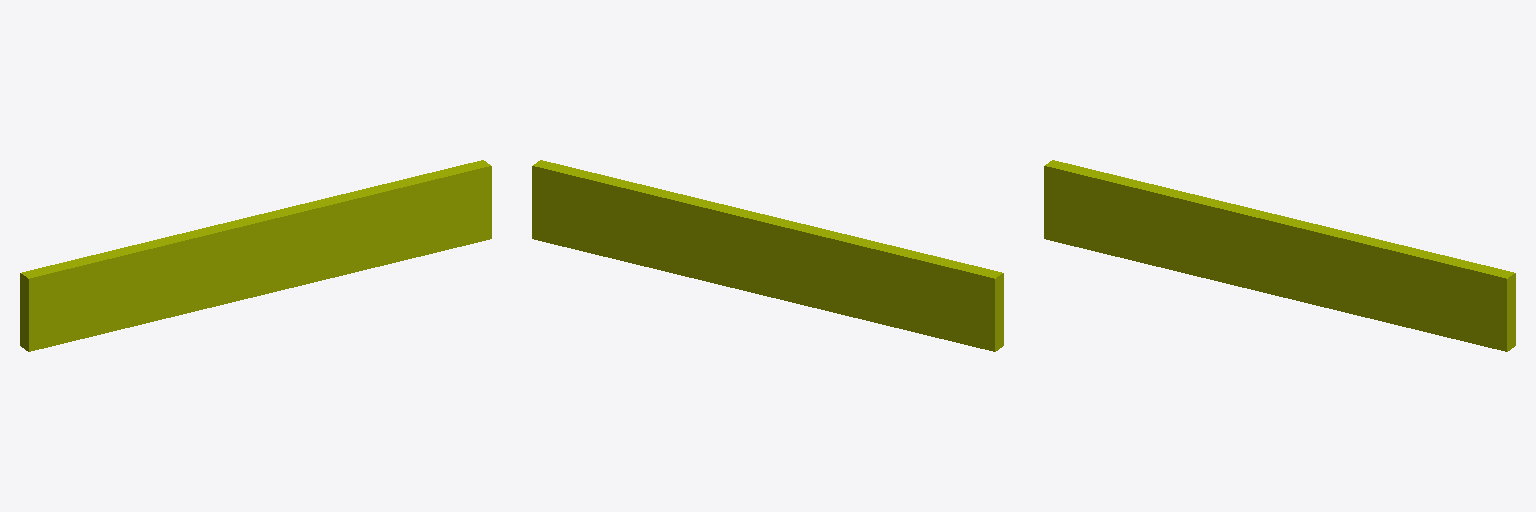
robot.urdf — back_boundary:
<?xml version="1.0"?>
<!-- created with Phobos 1.0.1 "Capricious Choutengan" -->
  <robot name="back_boundary">

    <link name="back_wall">
      <inertial>
        <contact>
          <lateral_friction value="1"/>
        </contact>
        <origin xyz="0 0 0" rpy="0 0 0"/>
        <mass value="0.001"/>
        <inertia ixx="0.001" ixy="0" ixz="0" iyy="0.001" iyz="0" izz="0.001"/>
      </inertial>
      <visual name="Cube">
        <origin xyz="0 0 0" rpy="0 0 0"/>
        <geometry>
          <box size="3.3 0.1 0.5"/>
        </geometry>
        <material name="blue"/>
      </visual>
      <collision>
        <origin rpy="0 0 0" xyz="0 0 0"/>
        <geometry>
          <box size="3.3 0.1 0.5"/>
        </geometry>
      </collision>
    </link>

    <material name="blue">
      <color rgba="0.68 0.74 0.04 1.0"/>
    </material>

  </robot>

--- Facts derived from the render (not from the file) ---
3 views of the same robot in one strip: view 1: azimuth 30°, elevation 25°; view 2: azimuth 150°, elevation 25°; view 3: azimuth 330°, elevation 25° (orthographic).
Robot: back_boundary — 1 links, 0 joints (none); root link back_wall; default pose: every joint at zero.
Visible links, largest first — view 1: back_wall; view 2: back_wall; view 3: back_wall.
Boxes of the visible links, box(x1,y1,x2,y2) form: back_wall: box(20, 160, 491, 351); back_wall: box(532, 160, 1003, 351); back_wall: box(1044, 160, 1515, 351).
Bounding box of the posed robot: 3.3 × 0.1 × 0.5 m (x, y, z).
Geometry: primitives only (box / cylinder / sphere), no mesh files.